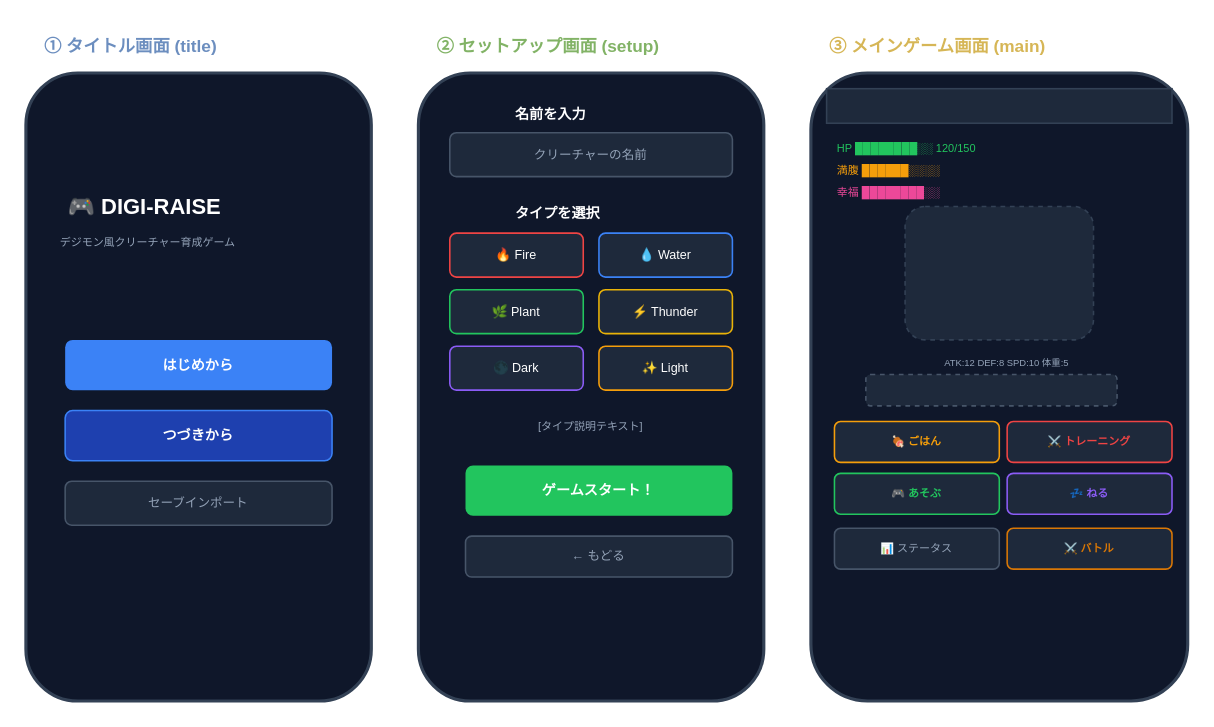
Some shapes in this 1214 by 727 pixel diagram are drawn without their labels. Each missing label, with the centre of its shape:
[メッセージポップアップ]: point 990,389
ピクモン Lv.5 🔥FIRE DEV: point 998,105
🐾 [クリーチャー スプライト]: point 999,272
